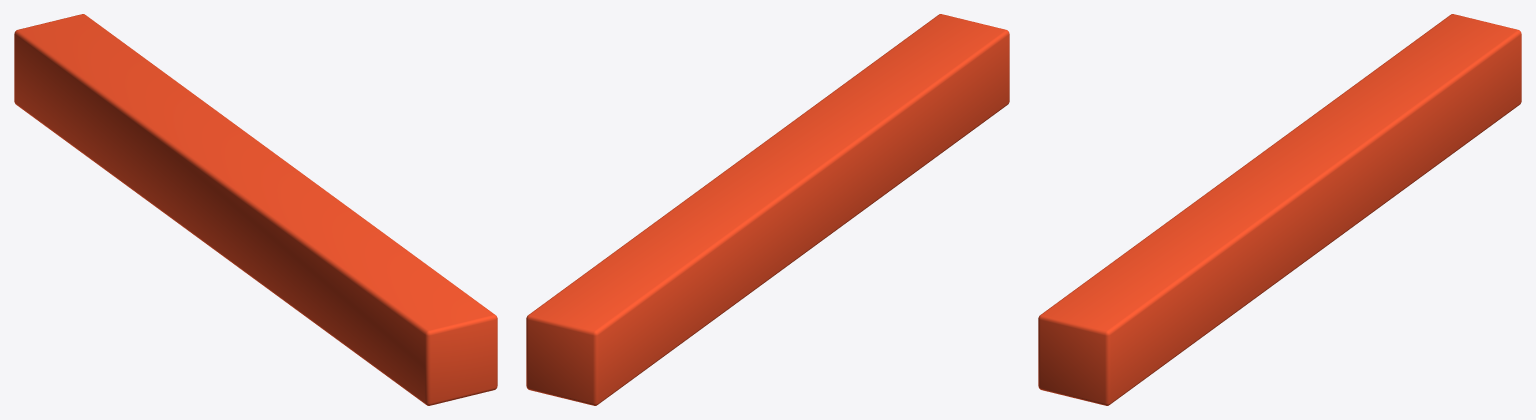
File: Cuis_Orange.fbx
3 views of the same model, side by side, from view 1: azimuth 30°, elevation 25°; view 2: azimuth 150°, elevation 25°; view 3: azimuth 330°, elevation 25° (orthographic).
Visible parts, largest first — view 1: Orange; view 2: Orange; view 3: Orange.
Part boxes in pixels (x1=…): Orange: x1=14, y1=14, x2=497, y2=405; Orange: x1=526, y1=14, x2=1009, y2=405; Orange: x1=1038, y1=14, x2=1521, y2=405.
Bounding box in the file's own units: 1 × 1 × 10.
